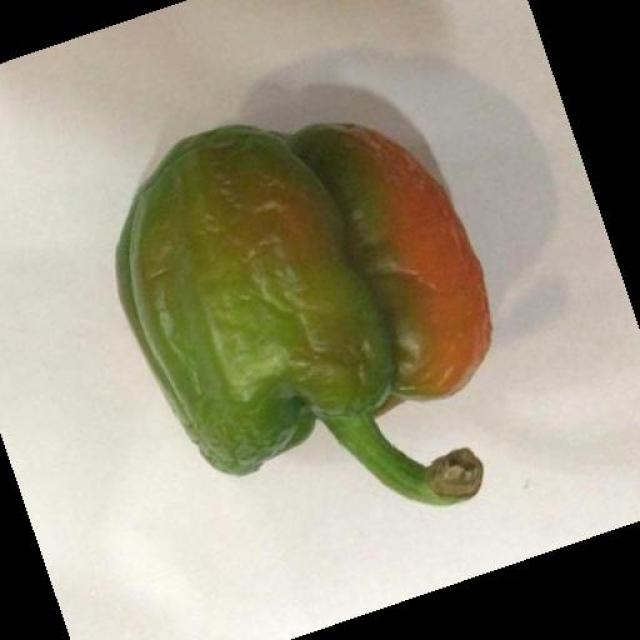Stale_Capsicum: (86, 126, 506, 513)
